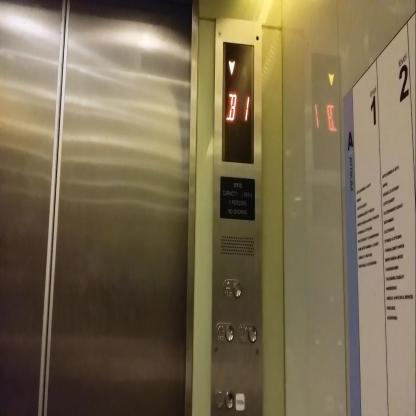7: (213, 388, 234, 410)
alarm: (221, 276, 243, 300)
close: (238, 323, 258, 344)
led: (220, 36, 259, 167), (311, 51, 345, 180)
open: (214, 321, 235, 343)
